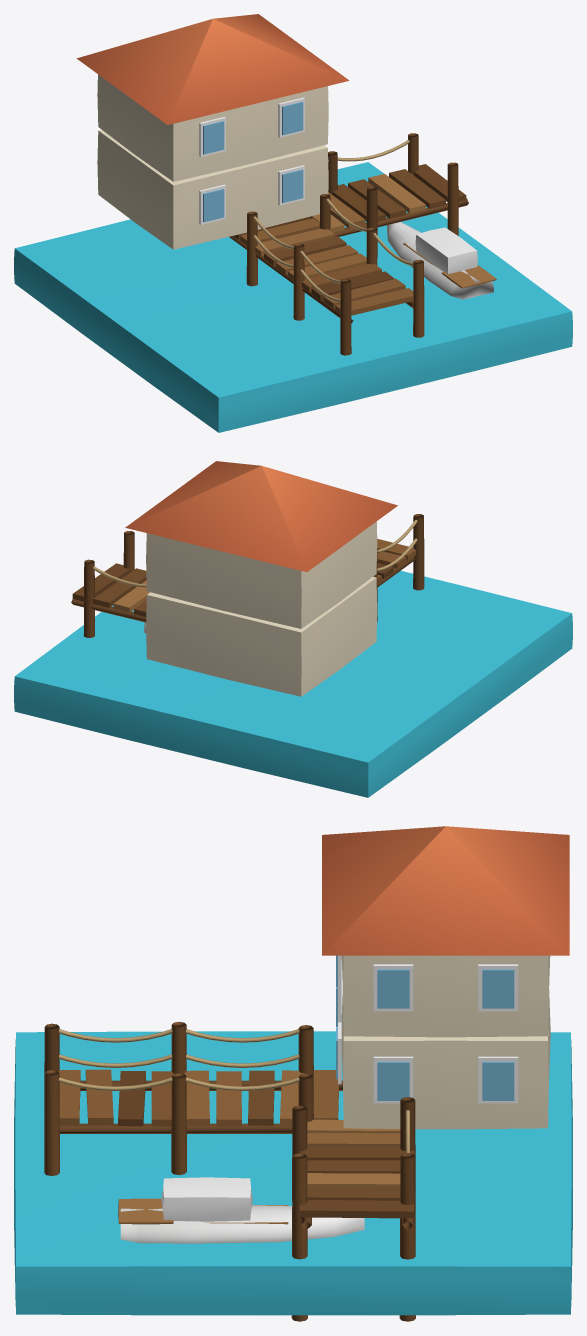
Rendered from Pier_L3.obj.
3 views of the same model, one above another, from view 1: azimuth 30°, elevation 25°; view 2: azimuth 150°, elevation 25°; view 3: azimuth 270°, elevation 25° (orthographic). The views are drawn at different scales.
Parts seen in each view (by area): view 1: Pier_L3; view 2: Pier_L3; view 3: Pier_L3.
Part boxes in pixels (box(x1,y1,x2,y2)): Pier_L3: box(14, 14, 572, 432); Pier_L3: box(14, 461, 572, 797); Pier_L3: box(14, 826, 572, 1321).
Bounding box in the file's own units: 4.4 × 3.2 × 4.4.
1 material, 1 textured.
